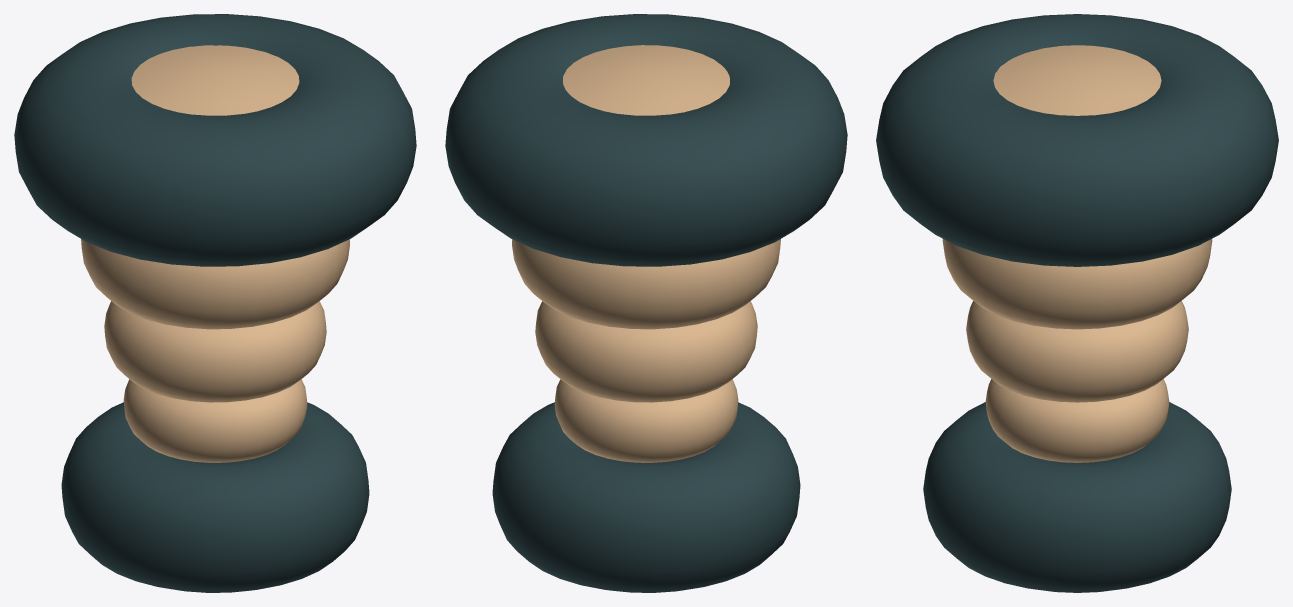
The model's file is FI_022_padded_stool.glb.
3 renders of one model, left to right at view 1: azimuth 30°, elevation 25°; view 2: azimuth 150°, elevation 25°; view 3: azimuth 270°, elevation 25°, orthographic.
Parts seen in each view (by area): view 1: padded_beanbag.002; view 2: padded_beanbag.002; view 3: padded_beanbag.002.
Part boxes in pixels (x1,y1,x2,y2): padded_beanbag.002: [14, 14, 416, 592]; padded_beanbag.002: [445, 14, 847, 592]; padded_beanbag.002: [876, 14, 1278, 592].
Size of the model in its own units: 0.576 by 0.7539 by 0.576.
